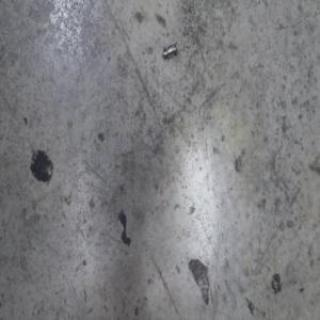Bolttrack_idkeyframe: (162, 40, 178, 60)
